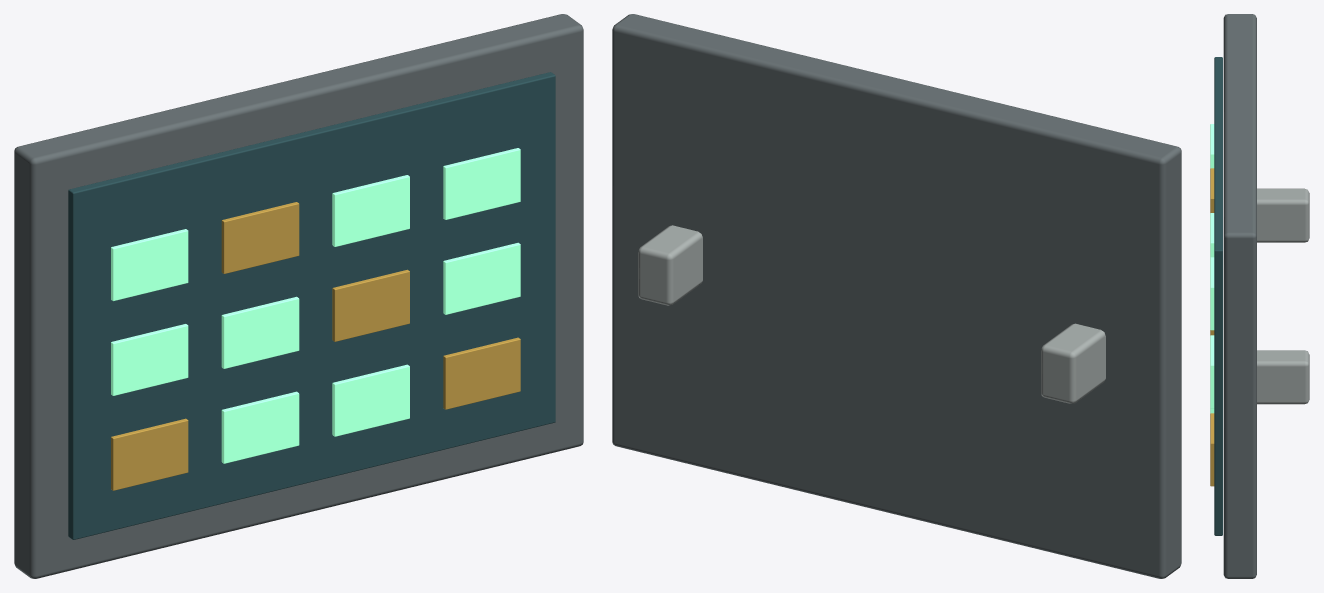
The model's file is automated-parking-and-vehicle-retrieval-automated-park-0a71d607__30388.glb.
The picture shows the model from 3 angles, left to right: view 1: azimuth 30°, elevation 25°; view 2: azimuth 150°, elevation 25°; view 3: azimuth 270°, elevation 25°; orthographic projection. The views are drawn at different scales.
Parts seen in each view (by area): view 1: automated-parking-and-vehicle-retrieval-vehicle-storage-stat (×4); view 2: automated-parking-and-vehicle-retrieval-vehicle-storage-stat (×2); view 3: automated-parking-and-vehicle-retrieval-vehicle-storage-stat (×5).
Boxes of the visible parts, x1,y1,x2,y2 form: automated-parking-and-vehicle-retrieval-vehicle-storage-stat (×4): [14, 14, 583, 578]; automated-parking-and-vehicle-retrieval-vehicle-storage-stat (×2): [612, 14, 1181, 578]; automated-parking-and-vehicle-retrieval-vehicle-storage-stat (×5): [1210, 14, 1309, 578].
Bounding box in the file's own units: 1.1 × 0.8 × 0.2075.
